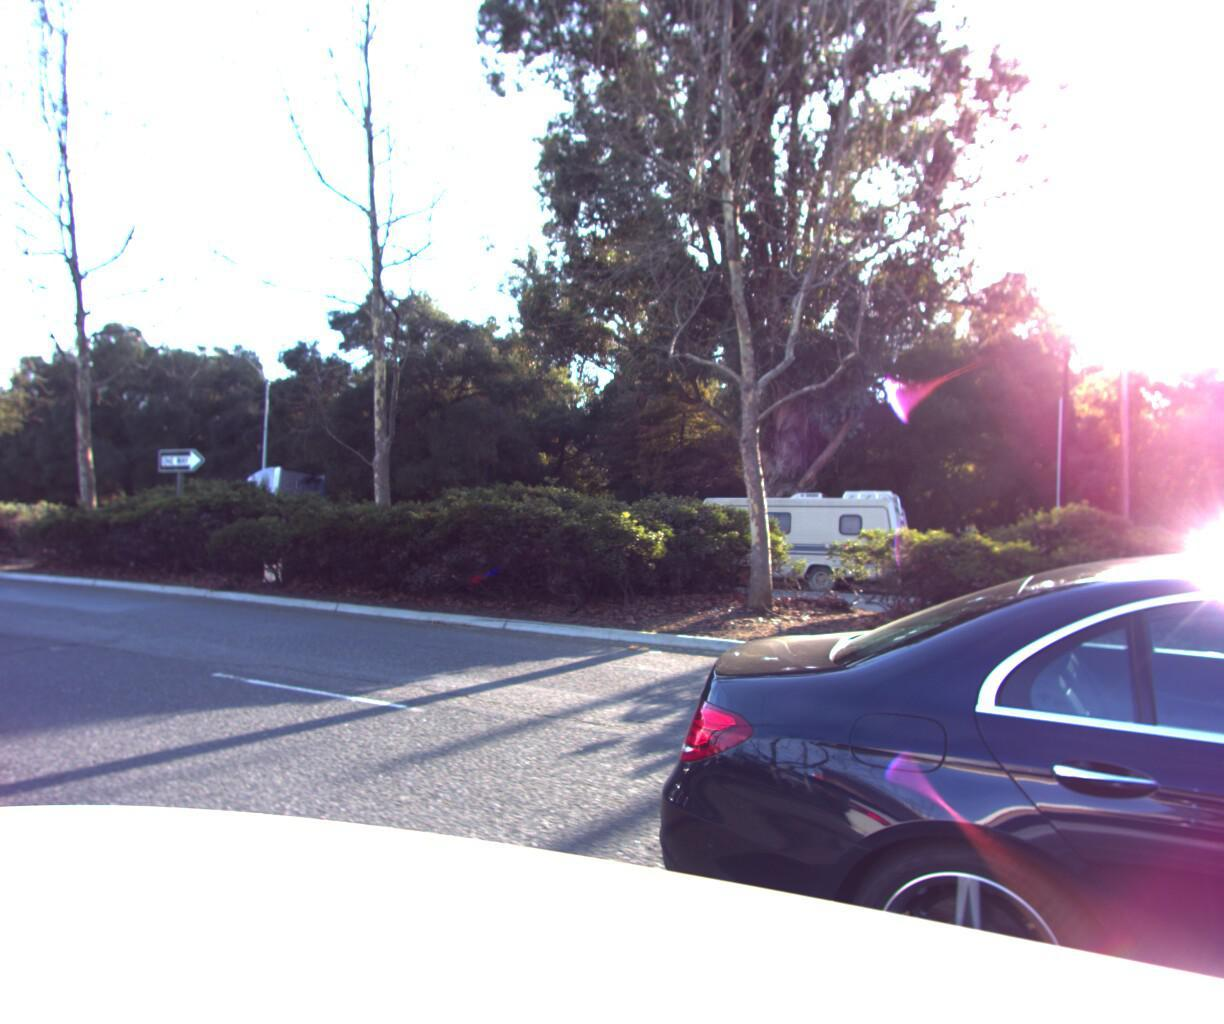car: (624, 516, 1224, 1024)
other_vehicle: (670, 484, 917, 599)
truck: (190, 465, 383, 566)
